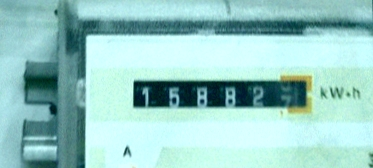1: (141, 83, 155, 105)
2: (252, 83, 268, 107)
5: (169, 82, 183, 108)
7: (282, 89, 294, 106)
8: (225, 83, 239, 107), (197, 84, 210, 107)
screen: (125, 66, 323, 124)
